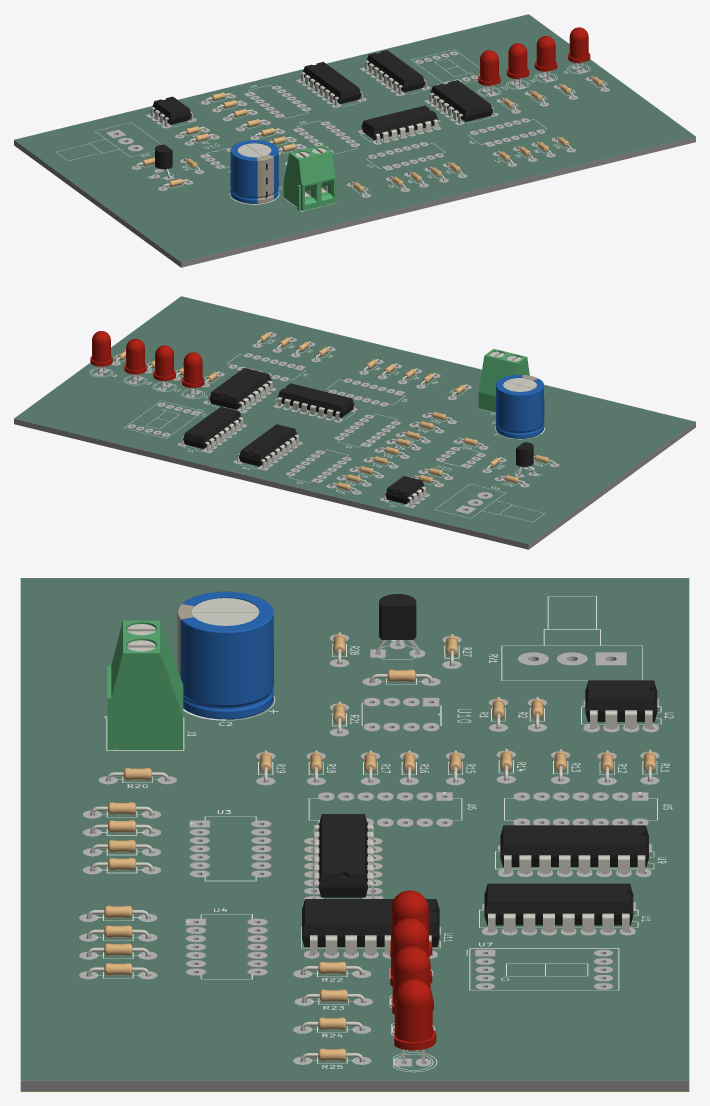
The model's file is adc.glb.
The picture shows the model from 3 angles, top to bottom: view 1: azimuth 30°, elevation 25°; view 2: azimuth 150°, elevation 25°; view 3: azimuth 270°, elevation 25°; orthographic projection. The views are drawn at different scales.
Visible parts, largest first — view 1: D1, =>[0:1:1:12]; view 2: D1, =>[0:1:1:12]; view 3: D1, =>[0:1:1:12].
Part boxes in pixels (bbox=[...]): D1: bbox=[14, 15, 695, 267]; =>[0:1:1:12]: bbox=[14, 14, 695, 261]; D1: bbox=[14, 297, 695, 549]; =>[0:1:1:12]: bbox=[14, 296, 695, 543]; D1: bbox=[20, 579, 689, 1091]; =>[0:1:1:12]: bbox=[20, 578, 689, 1091].
Bounding box in the file's own units: 0.1532 × 0.0173 × 0.0862.
Materials: 2 (2 with a texture image).
